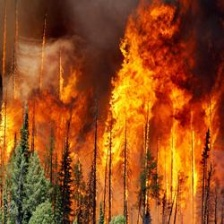fire: (107, 19, 223, 204), (57, 59, 93, 163), (1, 96, 16, 164)
